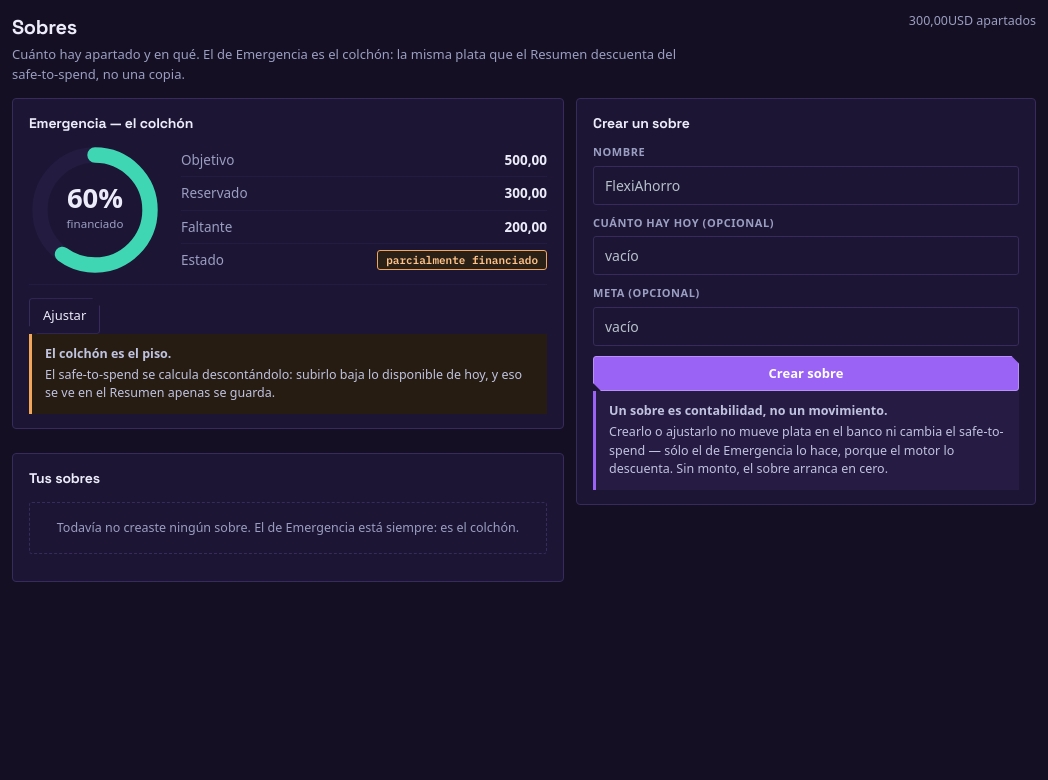
Scenario: ajustar un sobre › el rechazo del motor al ajustar se muestra con su motivo
Click the button with test id "ajustar-colchon".
click(65, 316)  # box [29,298,100,334]
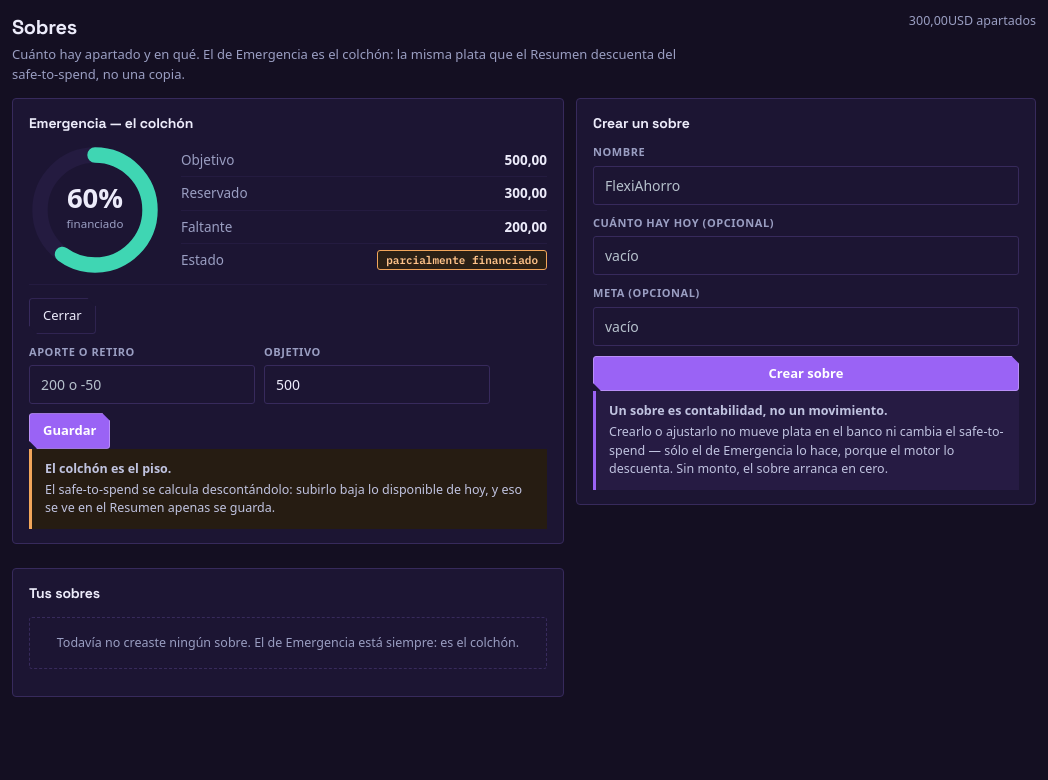
Type "-9999" into the field with id "colchon-aporte".
click(142, 385); type("-9999")  # box [29,365,255,404]
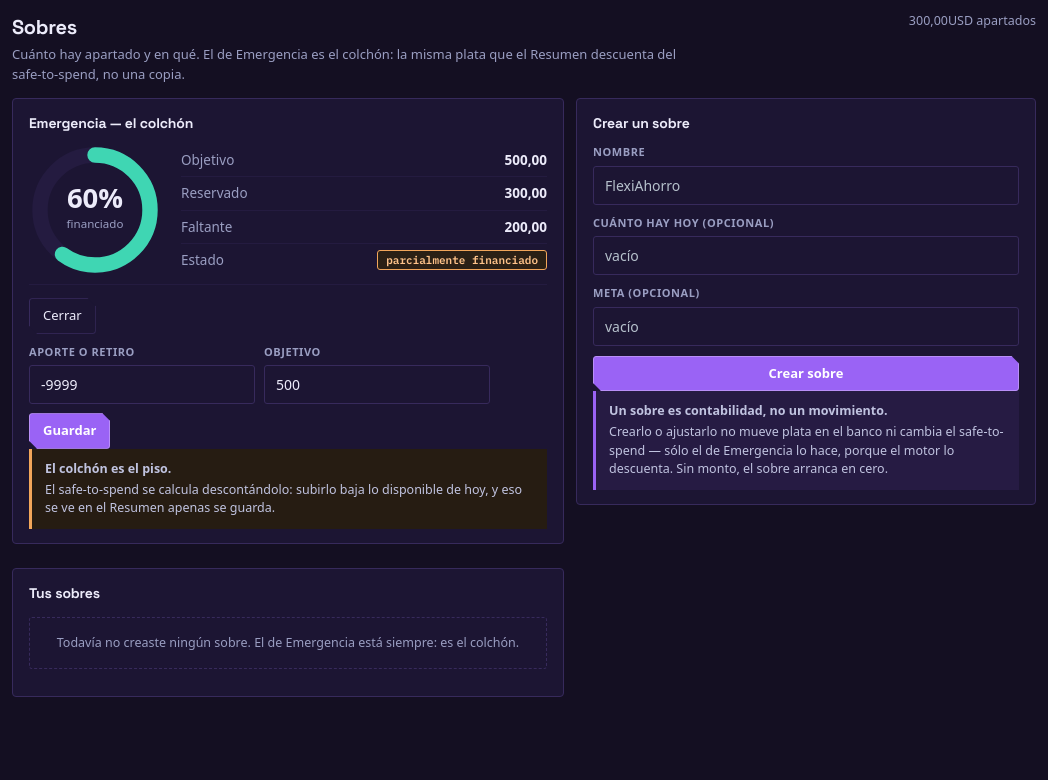
Submit the form with class "editor", box [29,344,547,449]
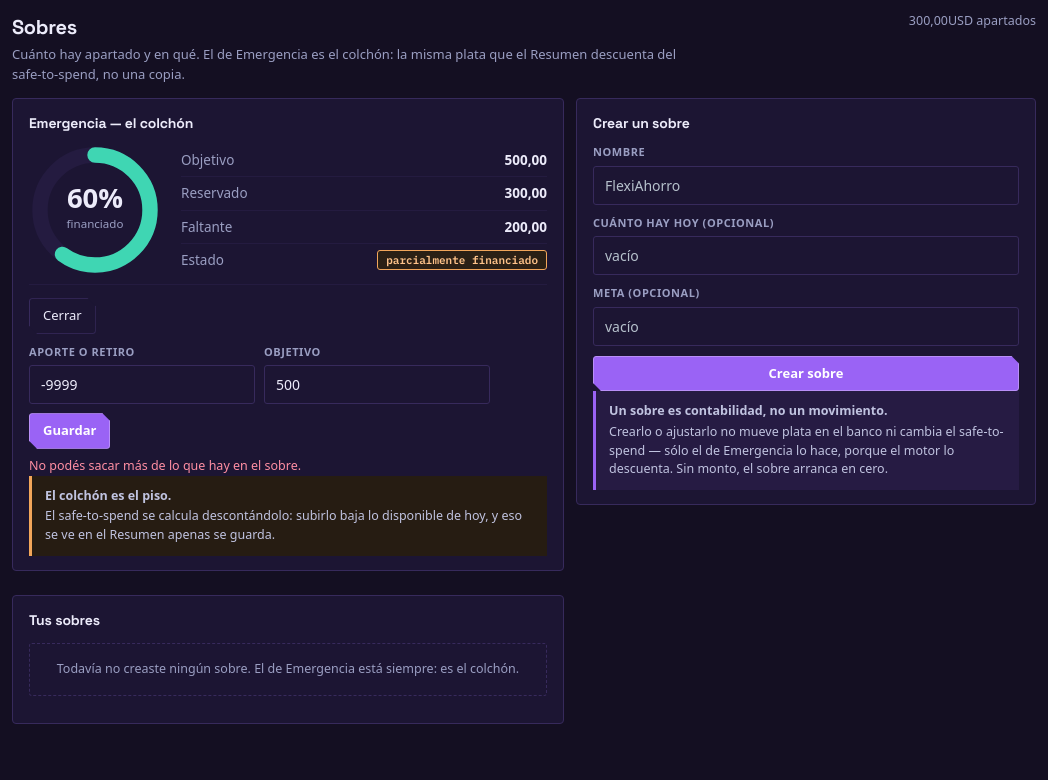
Expected: the text with test id "colchon-error" shows "más de lo que hay", [29,457,301,474]
